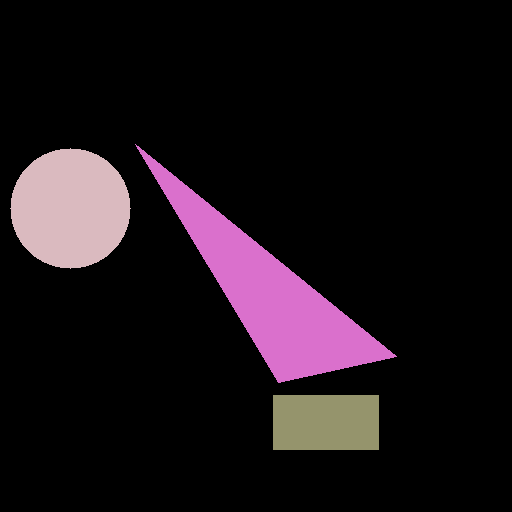circle: (10, 148, 130, 268)
rectangle: (273, 395, 378, 449)
triangle: (135, 144, 396, 382)
